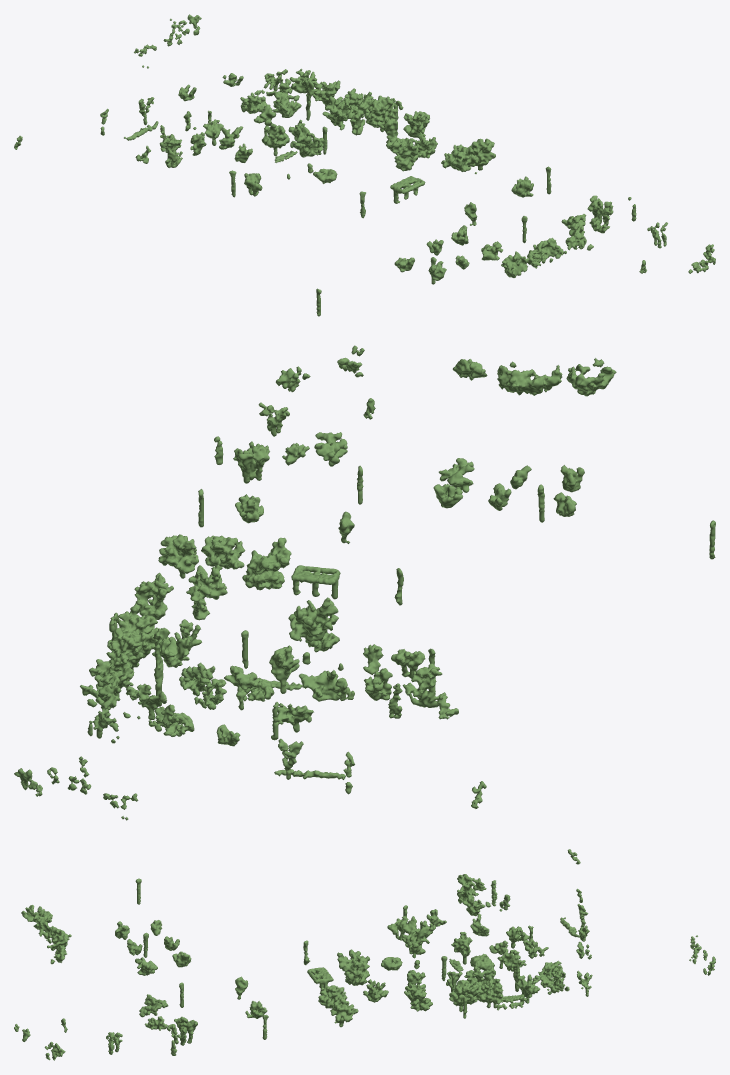
File: canopy.glb
The picture shows the model from 3 angles, top to bottom: view 1: azimuth 30°, elevation 25°; view 2: azimuth 150°, elevation 25°; view 3: azimuth 270°, elevation 25°; orthographic projection. The views are drawn at different scales.
Visible parts, largest first — view 1: Yard_canopy; view 2: Yard_canopy; view 3: Yard_canopy.
Boxes of the visible parts, x1=… form: Yard_canopy: x1=14, y1=14, x2=715, y2=316; Yard_canopy: x1=14, y1=345, x2=715, y2=820; Yard_canopy: x1=14, y1=849, x2=715, y2=1060.
Size of the model in its own units: 68.19 by 10.32 by 105.
